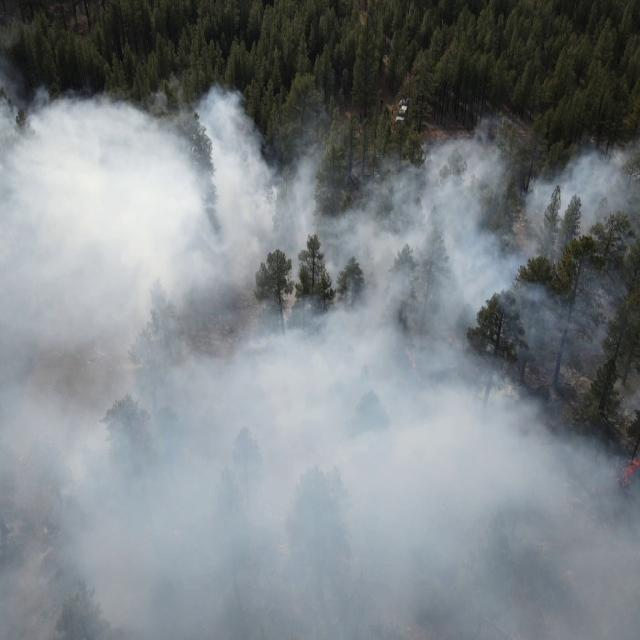fire: (593, 453, 640, 498)
smoke: (0, 94, 640, 640), (0, 3, 22, 95)
